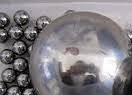ironball: (26, 7, 131, 94), (14, 72, 33, 89), (11, 8, 31, 23), (1, 66, 18, 83), (12, 39, 28, 55), (35, 15, 53, 29), (24, 24, 39, 40), (0, 48, 16, 62), (9, 25, 24, 39), (13, 57, 26, 71), (0, 11, 10, 28), (0, 28, 10, 44), (7, 84, 22, 94), (130, 22, 131, 36)
